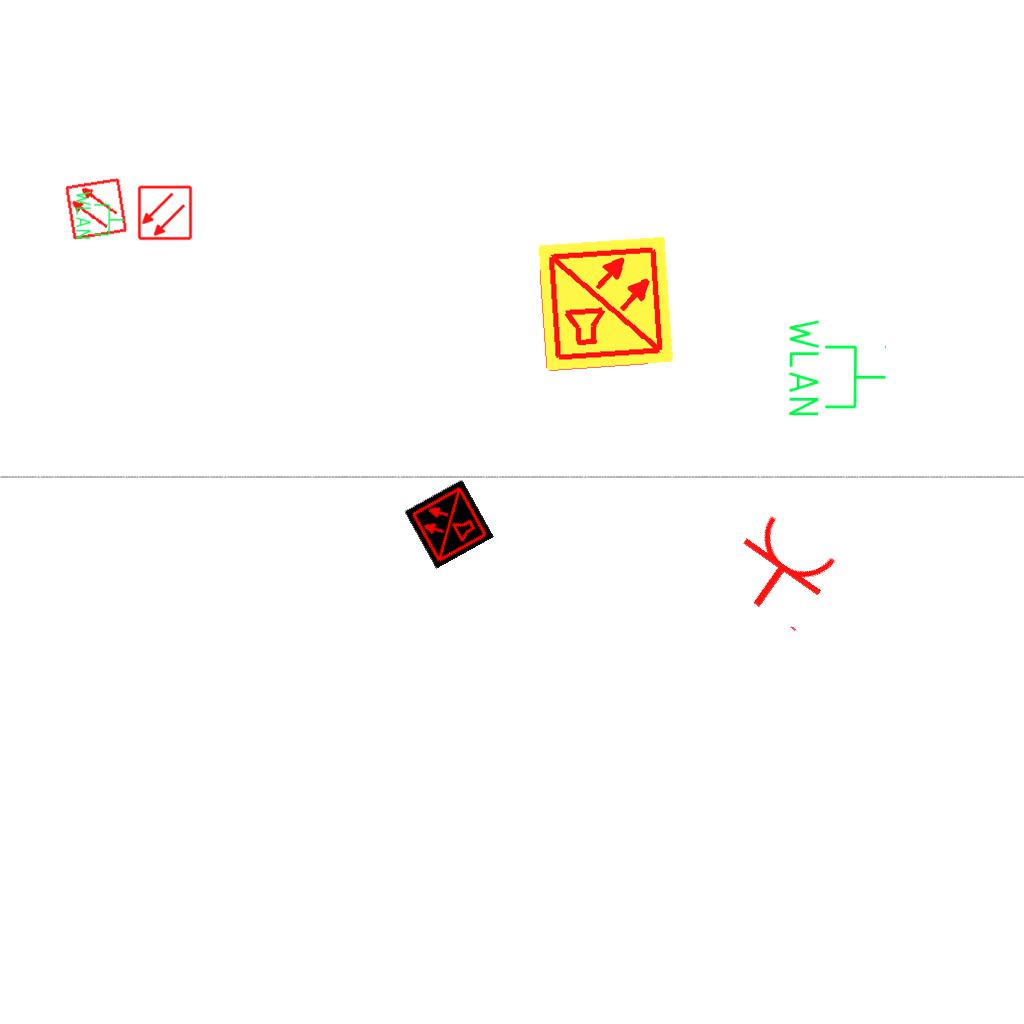OKW_Multisensormelder_(Kombination_optischer_Rauch-Kahlenmonoxid_Waerme-Melder): (535, 233, 677, 375), (404, 479, 494, 569)
RMO_Rauchmelder_optischer: (63, 176, 129, 242), (137, 185, 193, 241)
Schukosteckdose_einfach: (715, 507, 848, 637)
WLAN: (785, 315, 889, 420), (74, 189, 126, 241)
